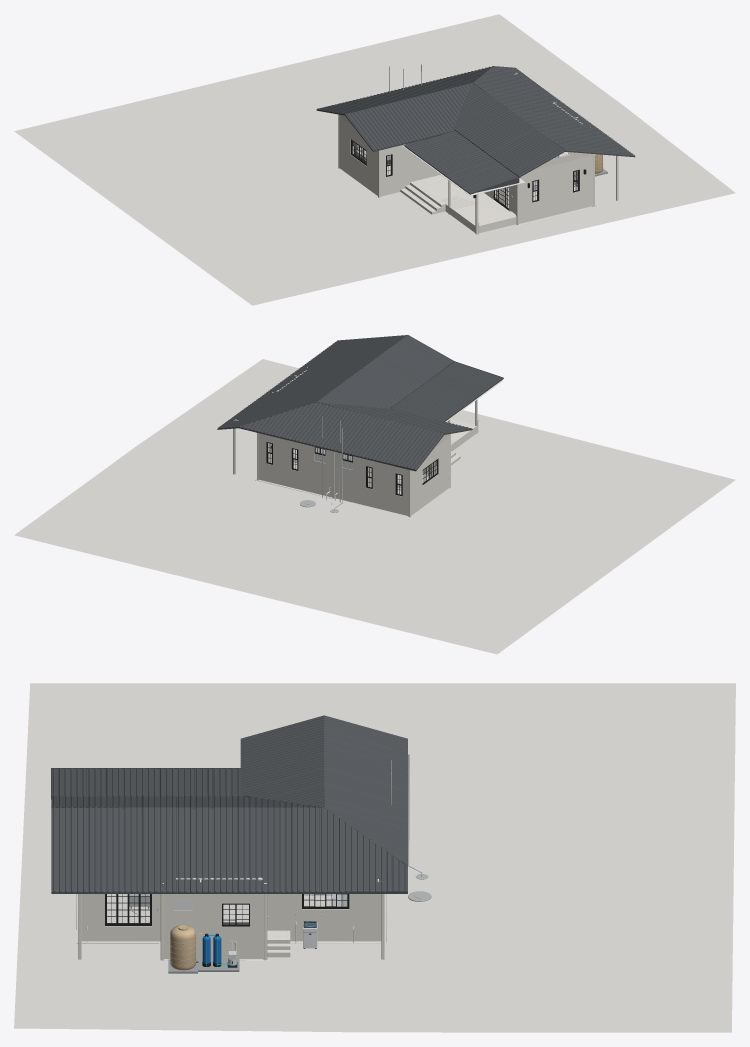
The model's file is house-stable-v413.glb.
The picture shows the model from 3 angles, top to bottom: view 1: azimuth 30°, elevation 25°; view 2: azimuth 150°, elevation 25°; view 3: azimuth 270°, elevation 25°; orthographic projection. The views are drawn at different scales.
Parts seen in each view (by area): view 1: site_xcqfx3ldie6e0lfq, d, c, b, slab_ml0yinv0445zy6c4, merged-roof.001, ผนังนอก_ใต้_นั่งเล่น, a, ผนังนอก_ตะวันตก_นอน1, ผนังนอก_ใต้_นอน1, merged-stair.001; view 2: site_xcqfx3ldie6e0lfq, a, d, ผนังนอก_เหนือ_นอน1+น้ำ1+น้ำ2+นอน2, c, merged-roof.001, slab_ml0yinv0445zy6c4, b, ผนังนอก_ตะวันตก_นอน1; view 3: site_xcqfx3ldie6e0lfq, d, a, b, merged-roof.001, slab_ml0yinv0445zy6c4, ผนังนอก_ตะวันออก_เก็บของ+นั่งเล่น, ผนังนอก_ตะวันออก_นอน2, c, ผนังนอก_ตะวันออก_นั่งเล่น, ถังน้ำดี1000_ตัวถัง.
Boxes of the visible parts, bbox=[...] form: site_xcqfx3ldie6e0lfq: bbox=[14, 14, 735, 305]; d: bbox=[474, 66, 635, 157]; c: bbox=[453, 83, 565, 176]; b: bbox=[345, 83, 472, 151]; slab_ml0yinv0445zy6c4: bbox=[339, 155, 592, 233]; merged-roof.001: bbox=[404, 130, 520, 194]; ผนังนอก_ใต้_นั่งเล่น: bbox=[519, 155, 592, 216]; a: bbox=[316, 66, 492, 115]; ผนังนอก_ตะวันตก_นอน1: bbox=[339, 118, 377, 188]; ผนังนอก_ใต้_นอน1: bbox=[380, 144, 414, 189]; merged-stair.001: bbox=[400, 181, 445, 214]; site_xcqfx3ldie6e0lfq: bbox=[14, 359, 735, 654]; a: bbox=[239, 402, 444, 471]; d: bbox=[217, 335, 406, 429]; ผนังนอก_เหนือ_นอน1+น้ำ1+น้ำ2+นอน2: bbox=[258, 433, 408, 508]; c: bbox=[316, 335, 454, 408]; merged-roof.001: bbox=[391, 361, 503, 421]; slab_ml0yinv0445zy6c4: bbox=[258, 419, 477, 515]; b: bbox=[317, 402, 472, 434]; ผนังนอก_ตะวันตก_นอน1: bbox=[411, 437, 449, 508]; site_xcqfx3ldie6e0lfq: bbox=[14, 683, 735, 1032]; d: bbox=[51, 807, 407, 893]; a: bbox=[324, 715, 407, 866]; b: bbox=[240, 715, 324, 807]; merged-roof.001: bbox=[51, 768, 240, 799]; slab_ml0yinv0445zy6c4: bbox=[81, 894, 381, 958]; ผนังนอก_ตะวันออก_เก็บของ+นั่งเล่น: bbox=[164, 894, 263, 948]; ผนังนอก_ตะวันออก_นอน2: bbox=[267, 894, 381, 930]; c: bbox=[51, 795, 323, 808]; ผนังนอก_ตะวันออก_นั่งเล่น: bbox=[81, 894, 160, 930]; ถังน้ำดี1000_ตัวถัง: bbox=[170, 925, 195, 970].
Size of the model in its own units: 35.16 by 7.48 by 30.69.
145 materials, 49 textured.
